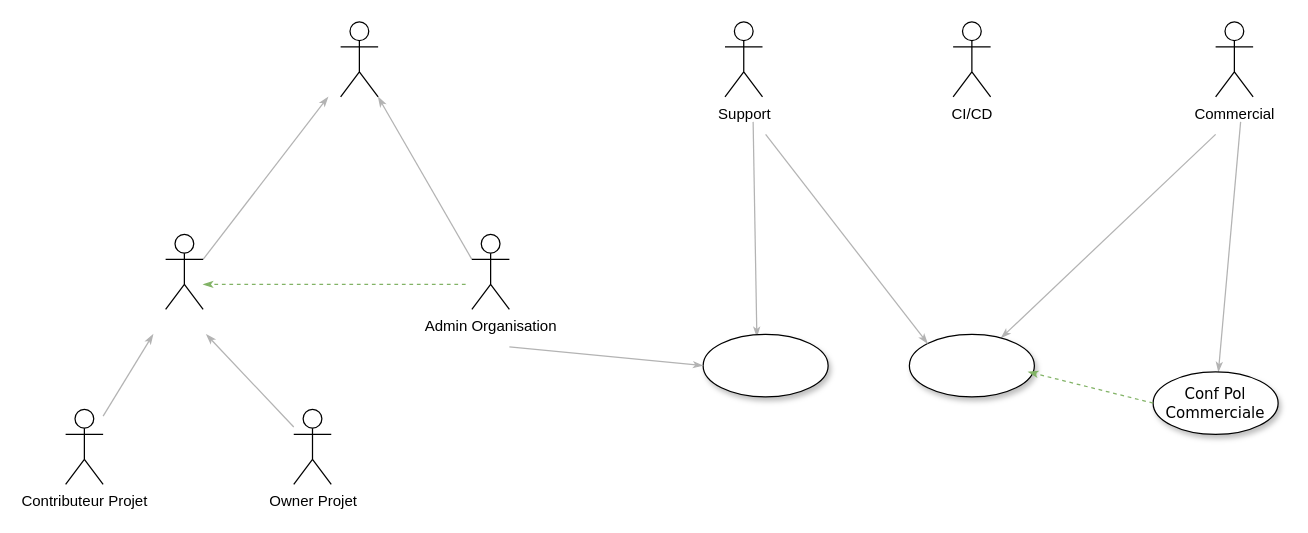
The diagram is 1308 pixels wide and 533 high, and some of its shapes have lost their labels. Here are the shapes that lost their labels. From the top down, the centre of each, then its label:
[358,59]: End User
[183,271]: Lambda
[766,367]: Configurer organisations
[972,367]: Lister organisations
